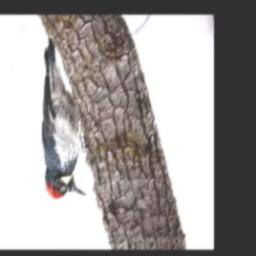Woodpecker: (42, 37, 87, 200)
